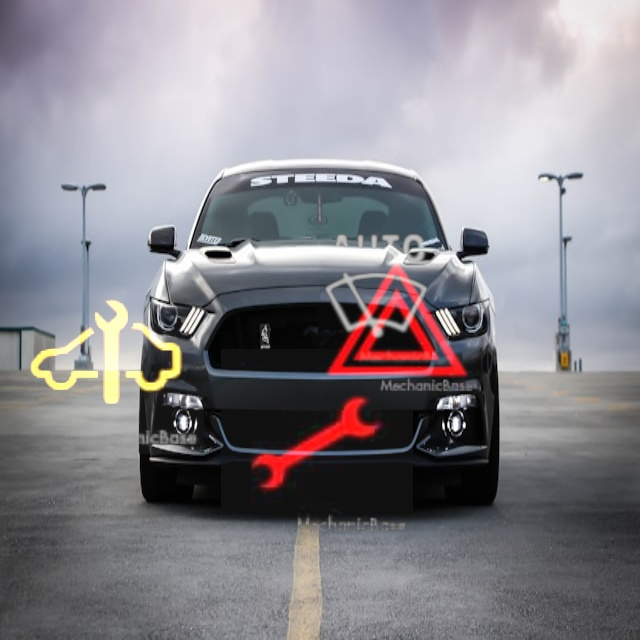symbol: (5, 255, 204, 454), (221, 349, 413, 541), (294, 204, 461, 371), (317, 237, 479, 399)
